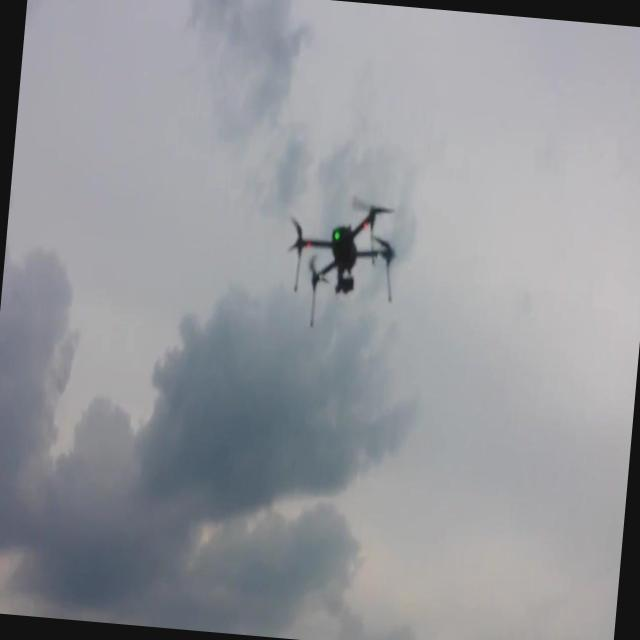drone: (282, 192, 407, 337)
